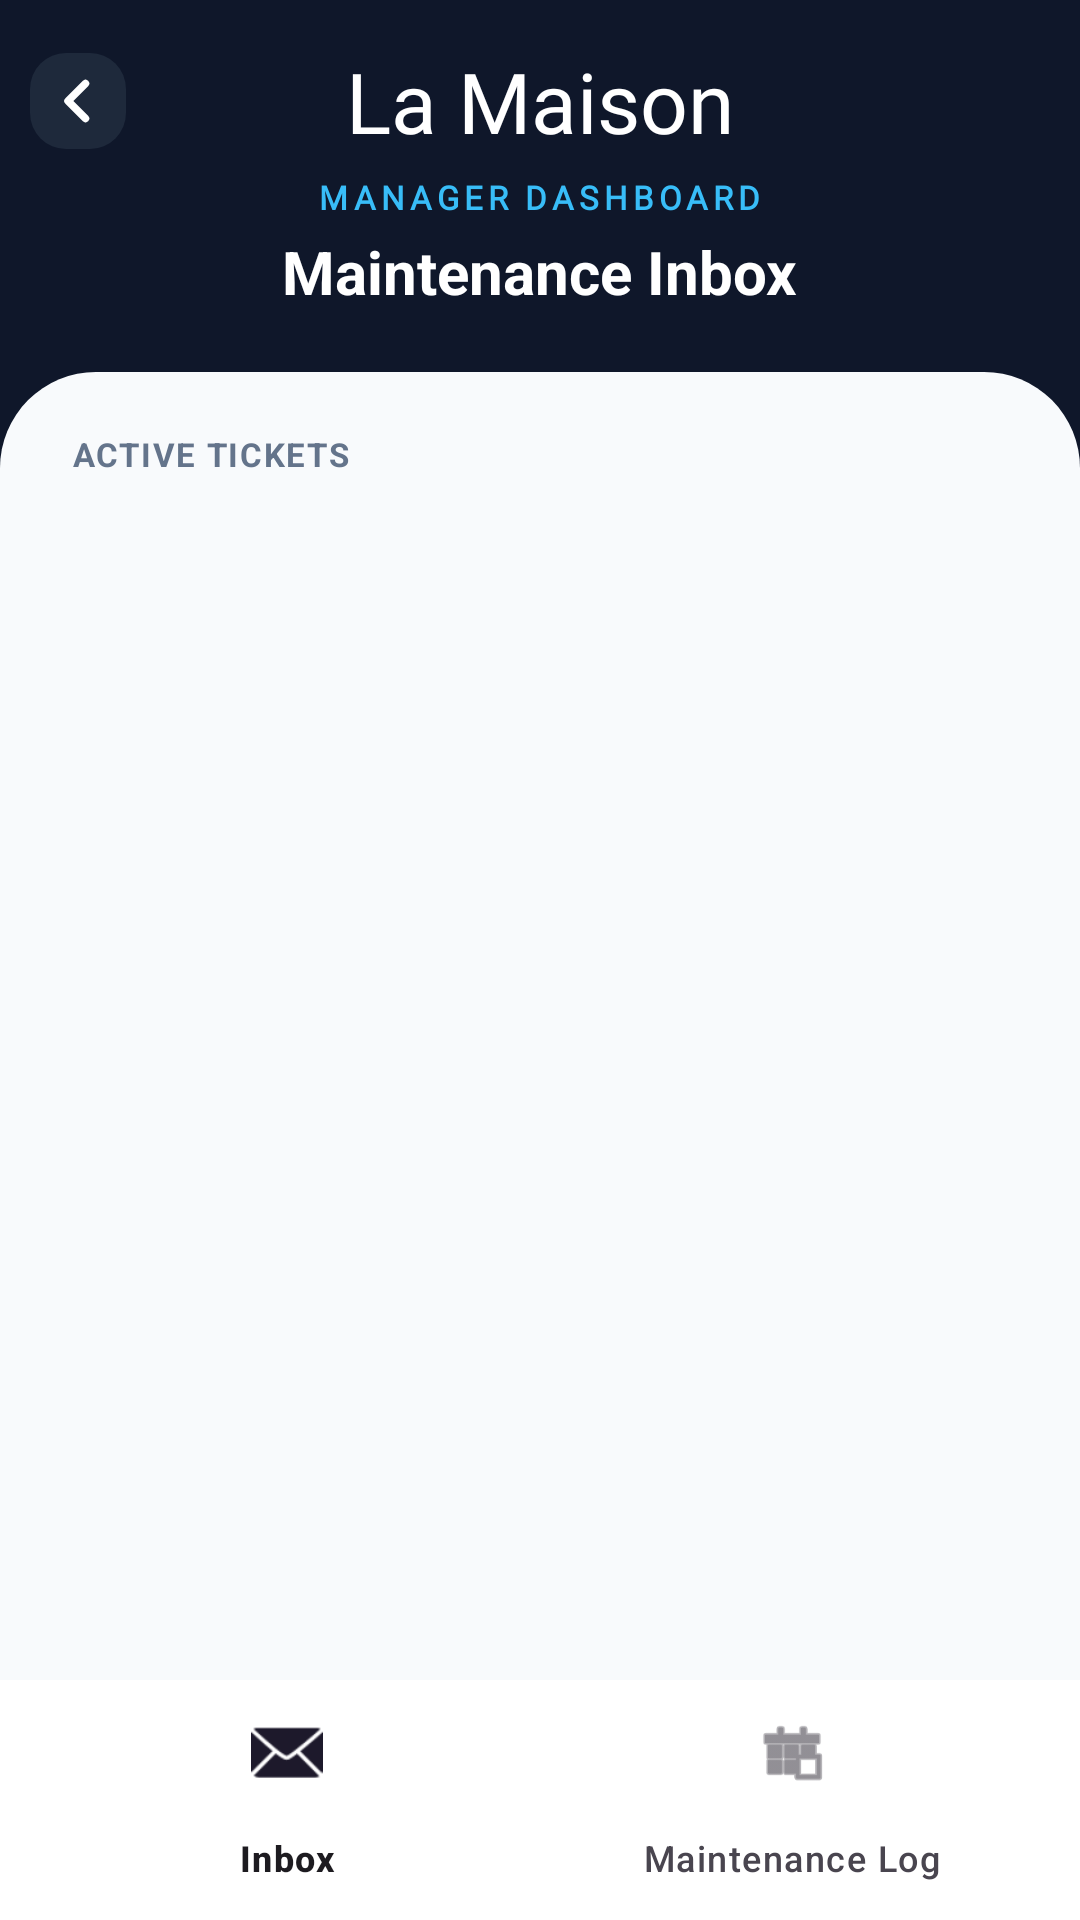

Icon click points for this 1080x1920 phone screenshot, format (x=x, y=y):
chevron left: (x=78, y=101)
